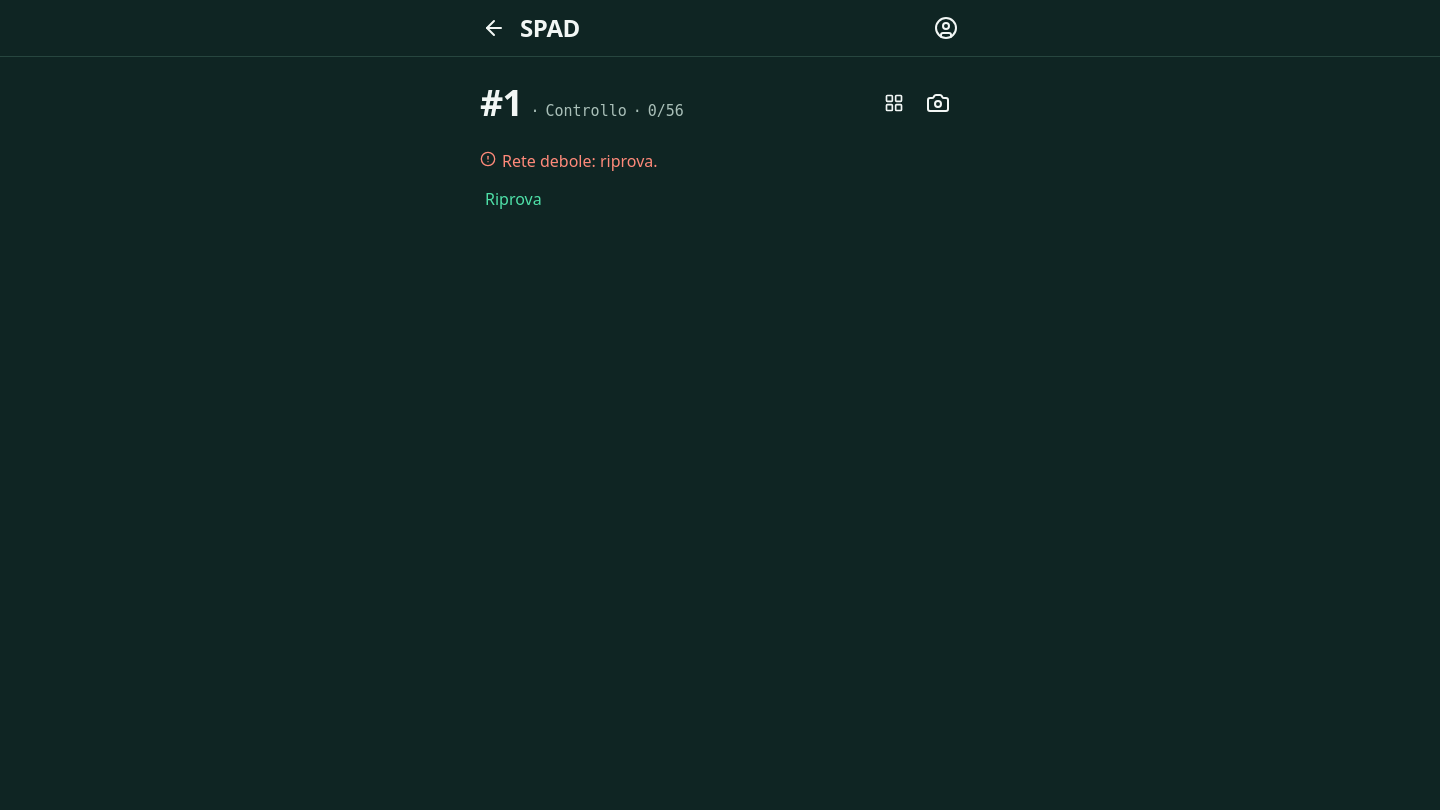
Scenario: MisuraPianta: intestazione › se le misure della pianta non si leggono non c'è il modulo (i progressivi sarebbero sbagliati) e "Riprova" ci riprova
The width and height of the screenshot is (1440, 810).
Expected: the message shows "Rete debole", [502,150,658,172]
Expected: the heading named "Pianta #1" is shown, [480,83,522,123]
Click the button "Riprova": click(513, 199) [468,177,559,221]
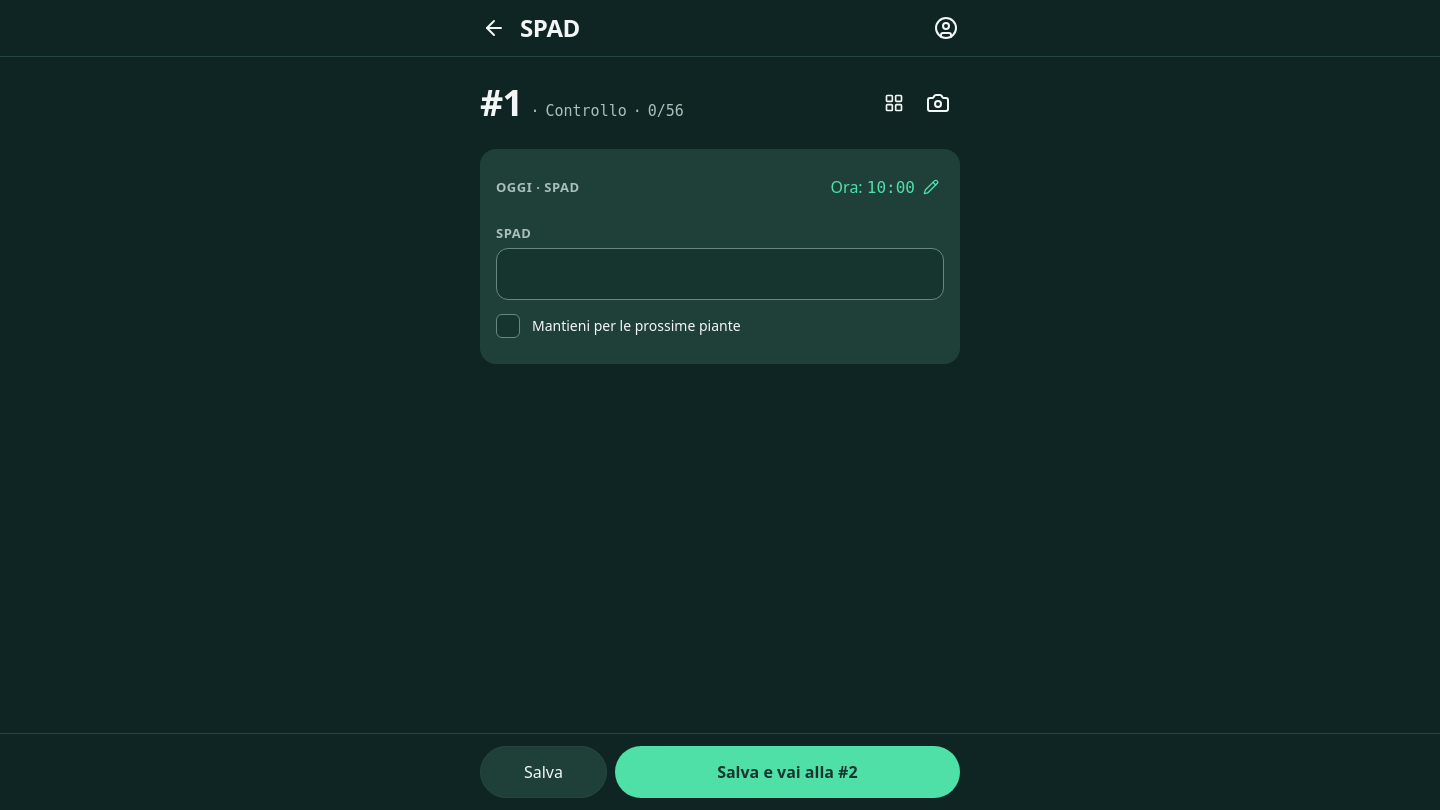
Expected: the button "Ora: 10:00" is shown, [814,165,956,209]
Expected: the field labelled "SPAD" is shown, [496,248,944,300]
